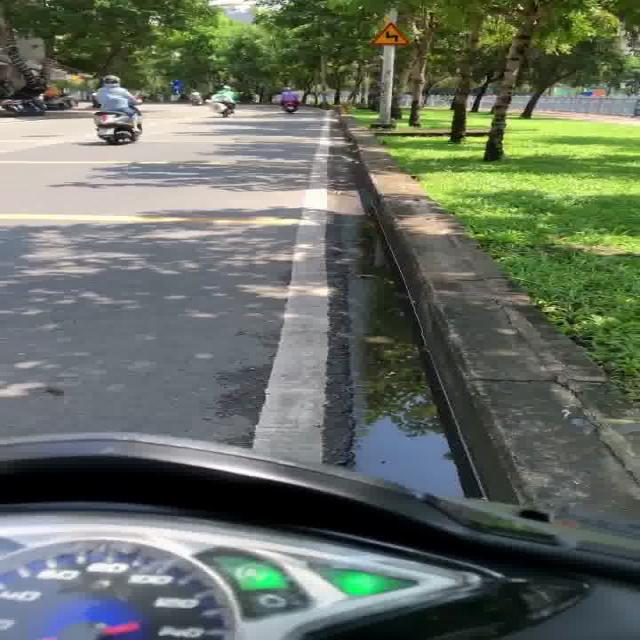Bien bao nhieu cho ngoat nguy hiem lien tiep: (365, 19, 412, 48)
